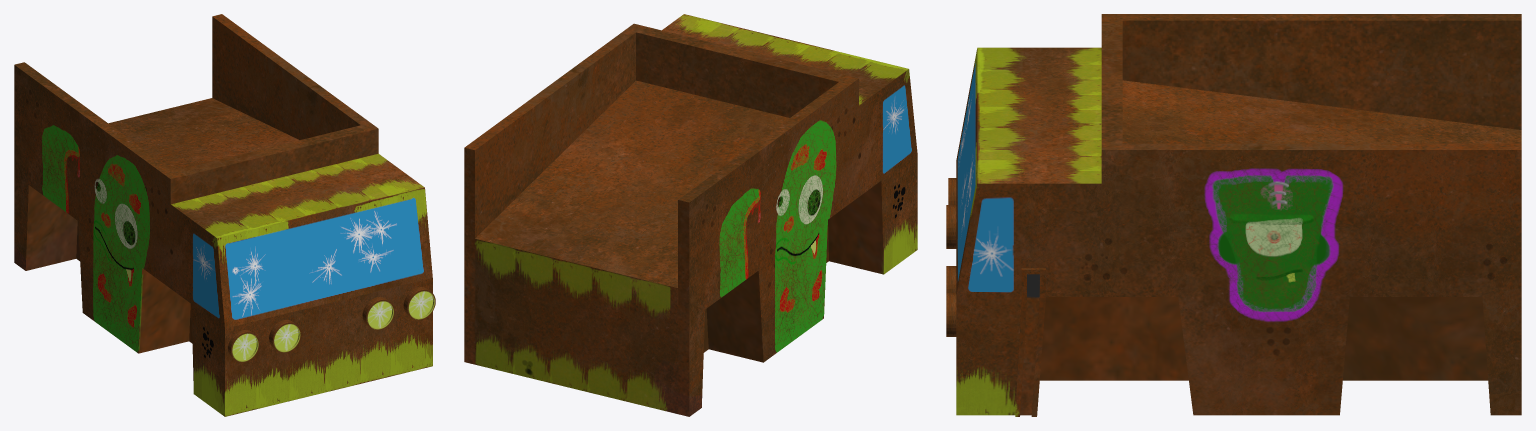
The model's file is Jefe.glb.
3 views of the same model, side by side, from view 1: azimuth 30°, elevation 25°; view 2: azimuth 150°, elevation 25°; view 3: azimuth 270°, elevation 25° (orthographic). The views are drawn at different scales.
Parts seen in each view (by area): view 1: Cylinder.003; view 2: Cylinder.003; view 3: Cylinder.003.
Boxes of the visible parts, x1=… form: Cylinder.003: x1=14, y1=14, x2=435, y2=416; Cylinder.003: x1=464, y1=14, x2=917, y2=416; Cylinder.003: x1=946, y1=14, x2=1521, y2=416.
Bounding box in the file's own units: 18.86 × 16.98 × 33.34.
1 material, 1 textured.
